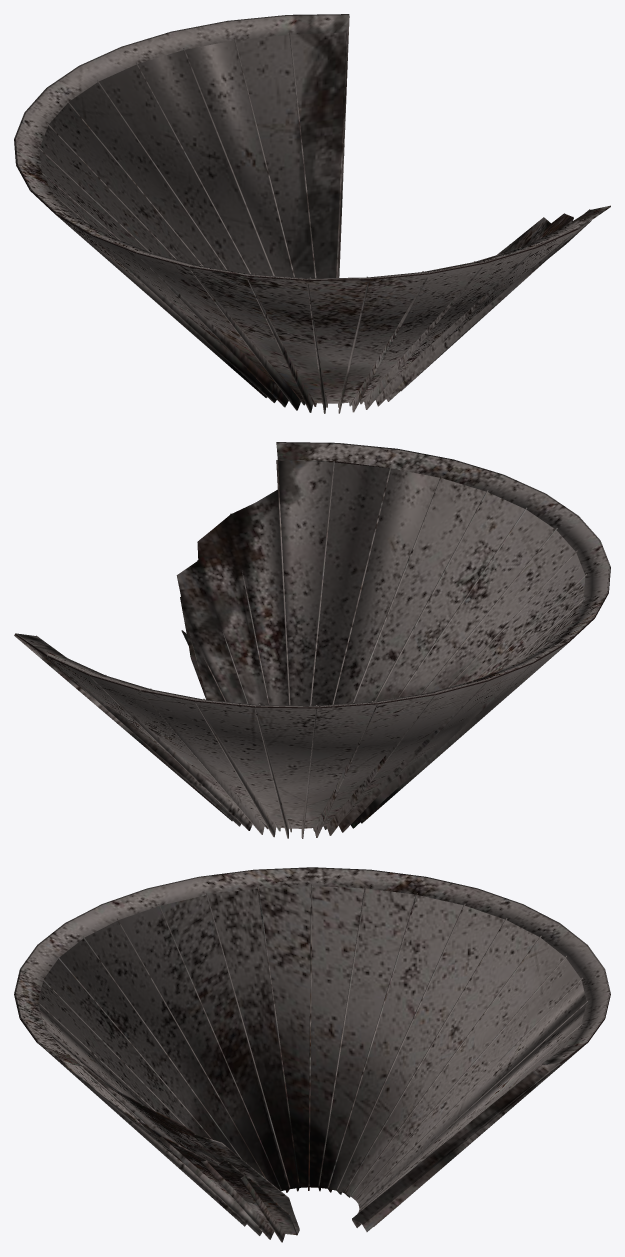
The model's file is item13.fbx.
3 views of the same model, one above another, from view 1: azimuth 30°, elevation 25°; view 2: azimuth 150°, elevation 25°; view 3: azimuth 270°, elevation 25° (orthographic). The views are drawn at different scales.
Parts seen in each view (by area): view 1: Item13; view 2: Item13; view 3: Item13.
Boxes of the visible parts, x1,y1,x2,y2 form: Item13: [14, 14, 610, 413]; Item13: [14, 442, 610, 838]; Item13: [14, 867, 610, 1242].
Bounding box in the file's own units: 347 × 177 × 430.
